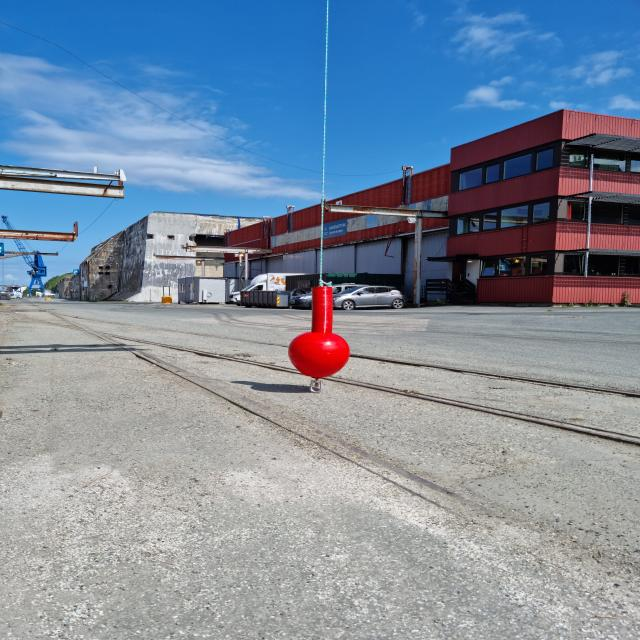red: (289, 286, 351, 378)
